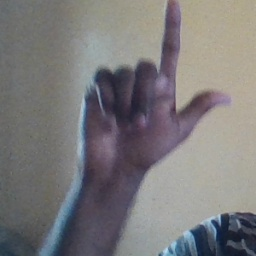L: (76, 1, 236, 169)
